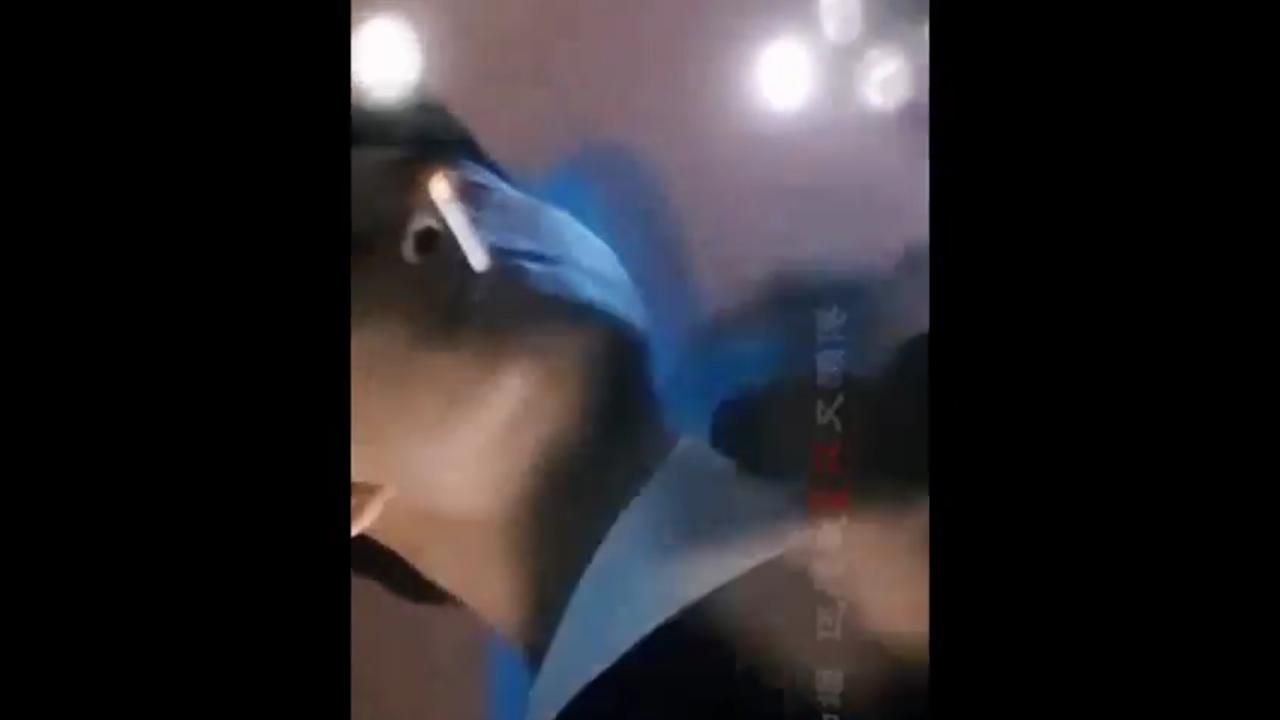Cigarette: (432, 174, 498, 272)
